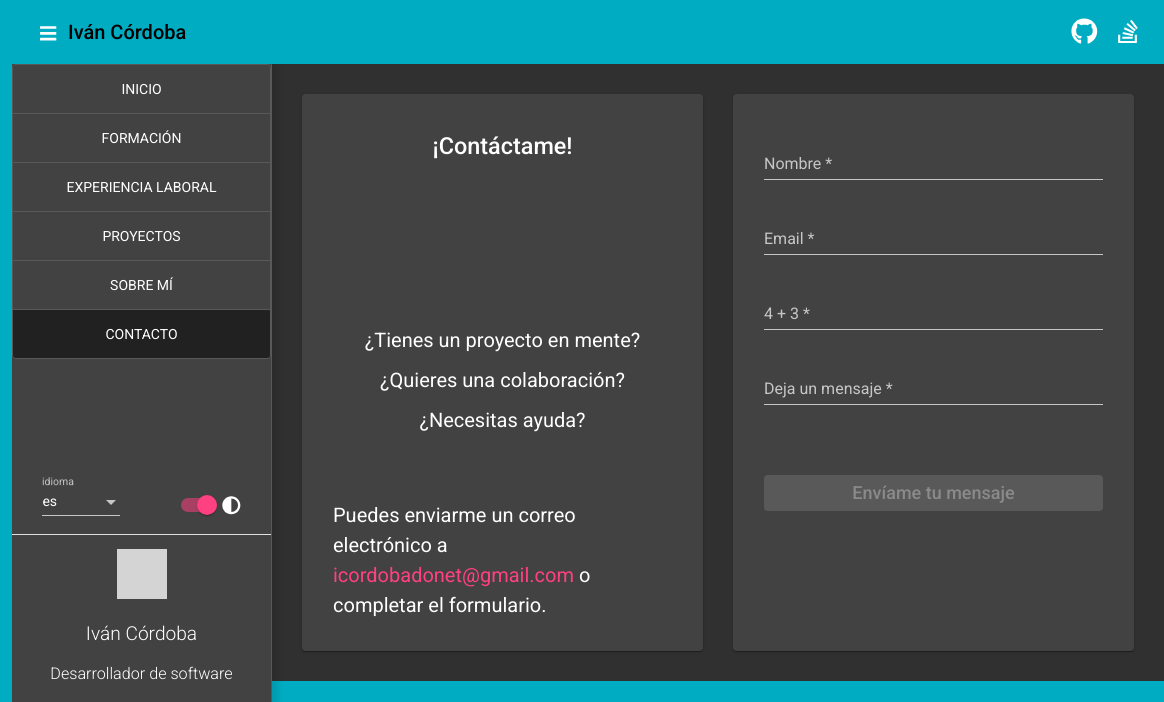
Test case: Contact Page › should show required error on sum field
Type "1" into the number field with test id "contactFieldSumInput" at (934, 314), box [764,305,1103,323]
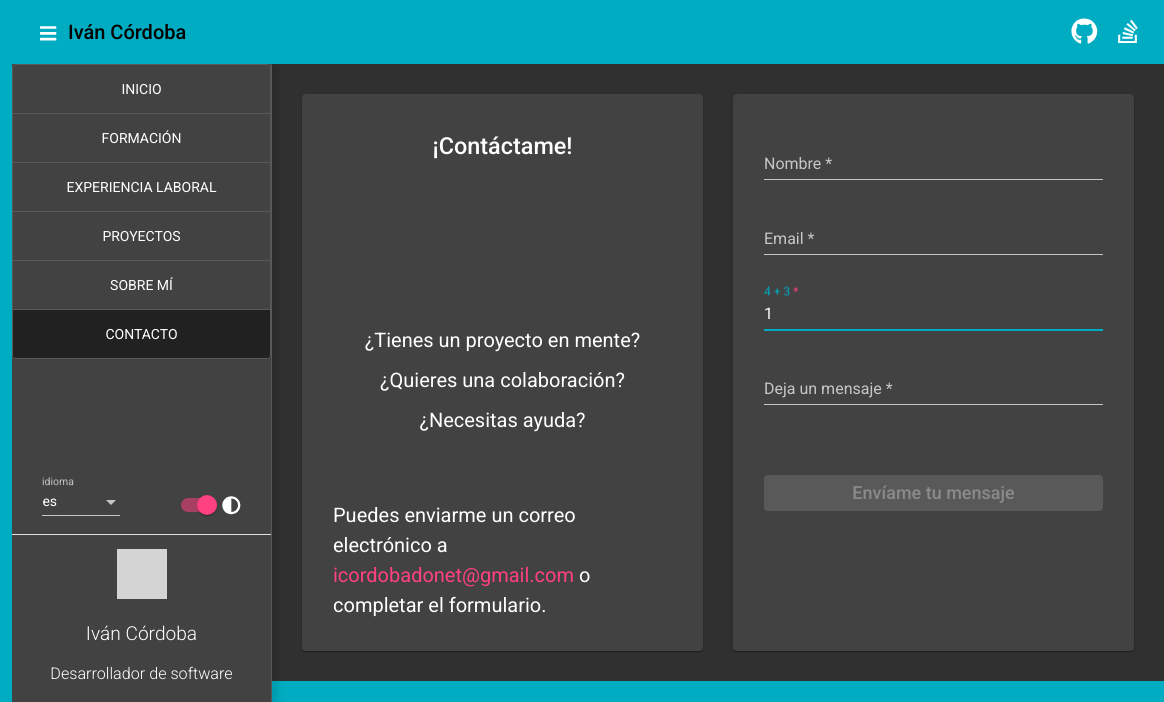
Clear the number field with test id "contactFieldSumInput" at (934, 314), box [764,305,1103,323]
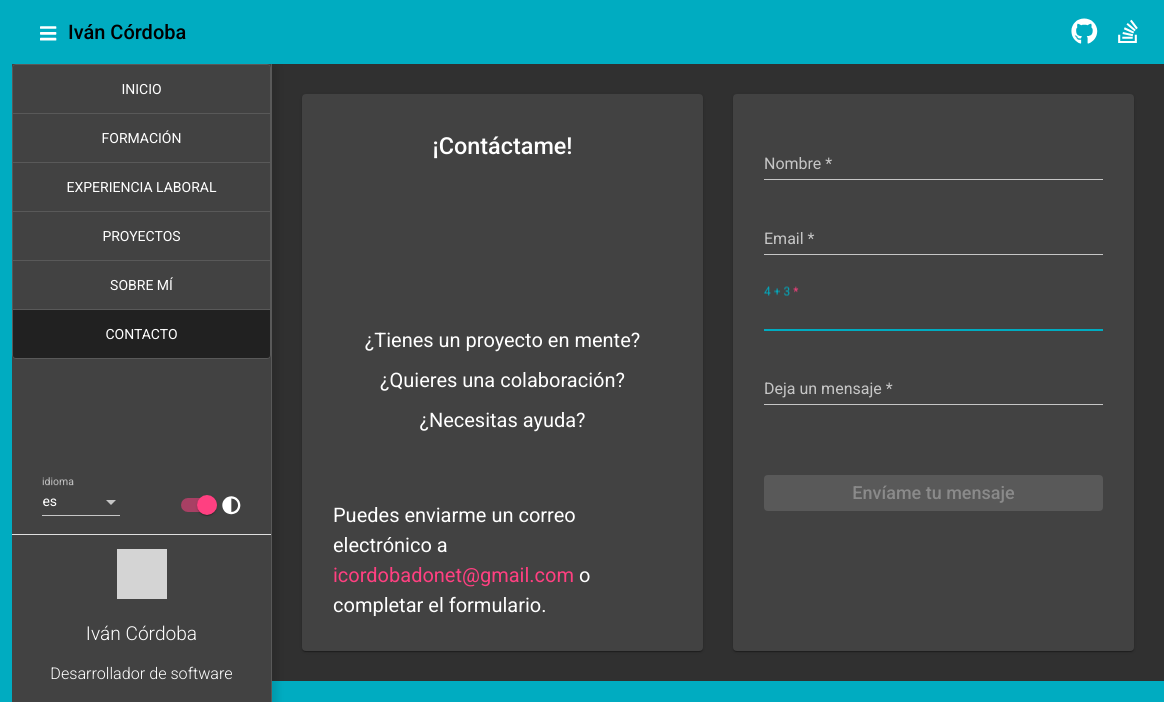
Click the element with test id "contactCard" that starts with "¡Contáctame!" at (503, 373), box [302,94,703,651]
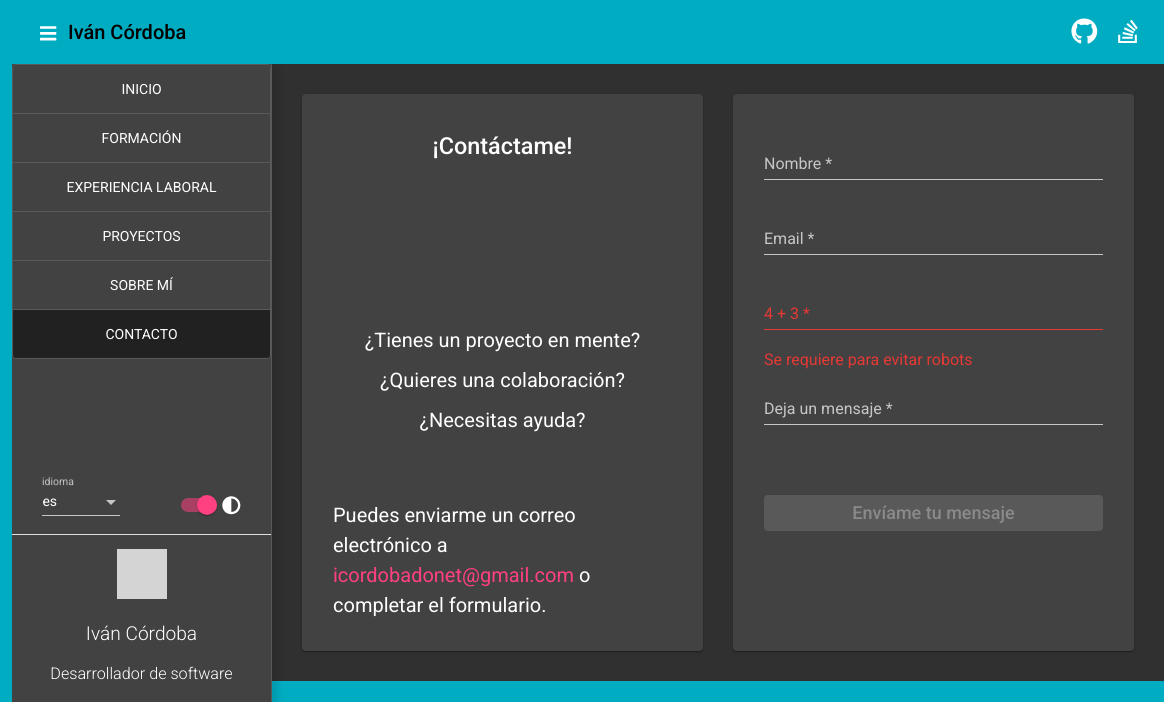
Expected: the text "Se requiere para evitar robots" is shown, [764,350,972,369]
